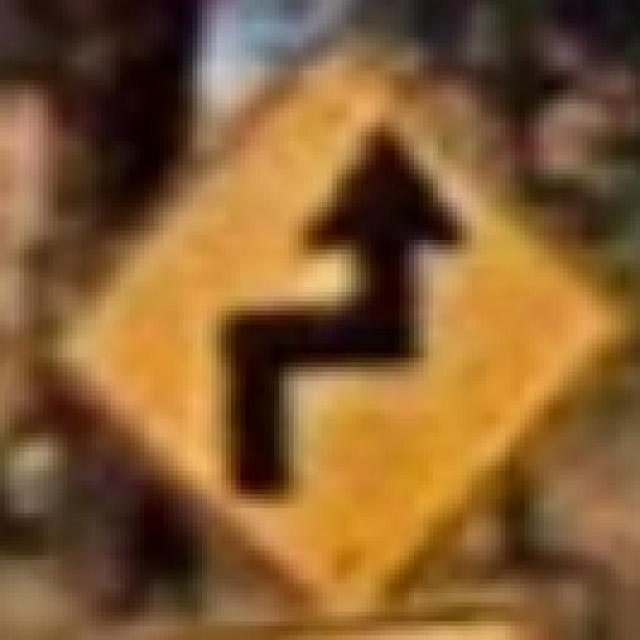Tikungan Ganda Pertama Ke Kanan: (53, 24, 611, 616)
